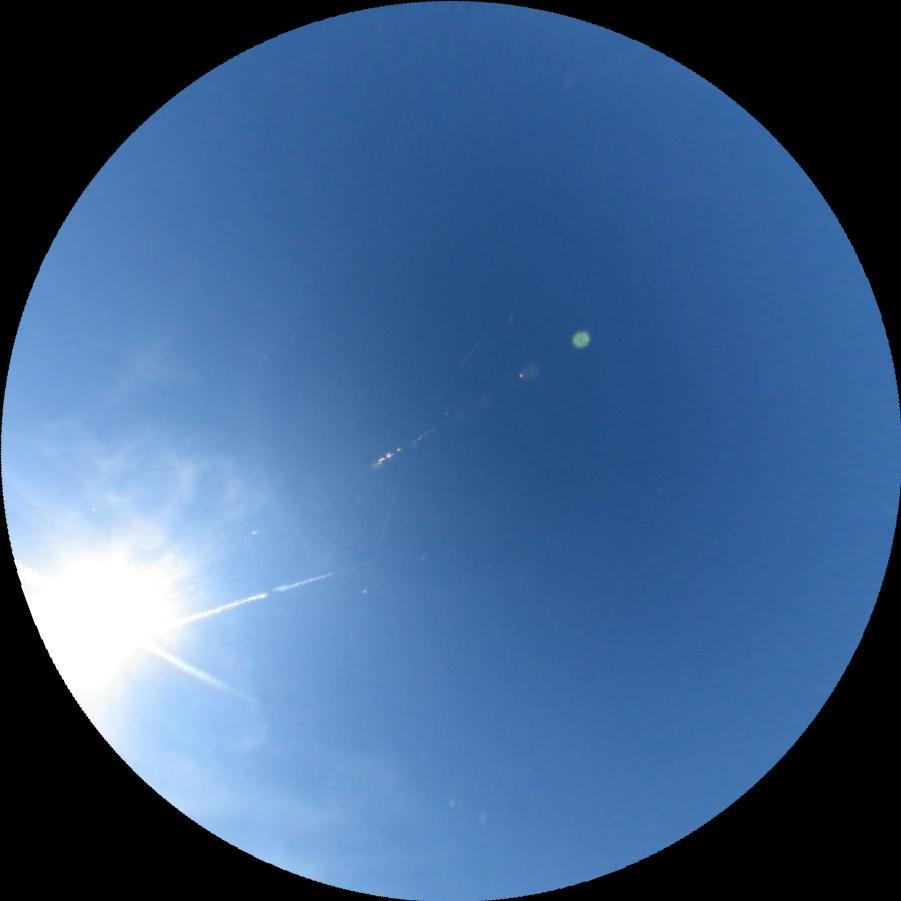contrail old: (12, 561, 256, 710)
contrail young: (361, 326, 485, 546)
parasite: (144, 570, 333, 636)
sun: (19, 540, 168, 694)
